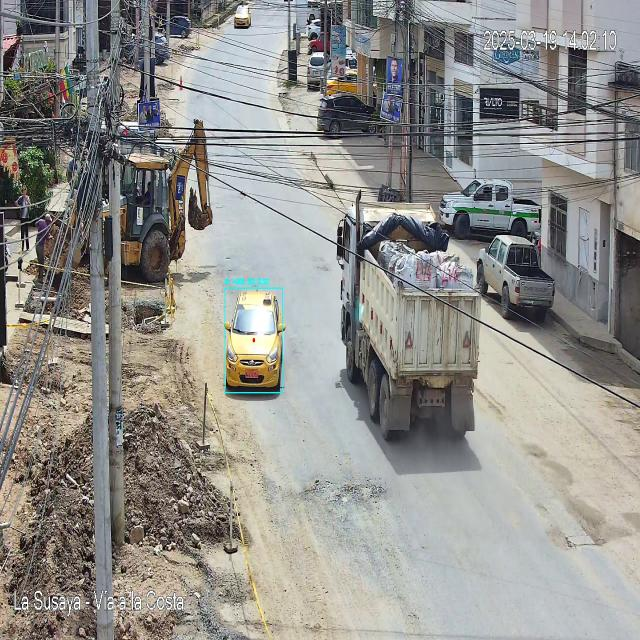TRUCK: (336, 192, 480, 438)
